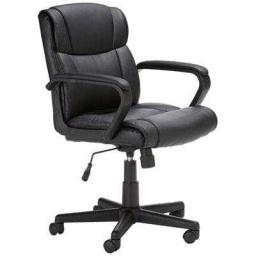Chair: (38, 6, 218, 253)
